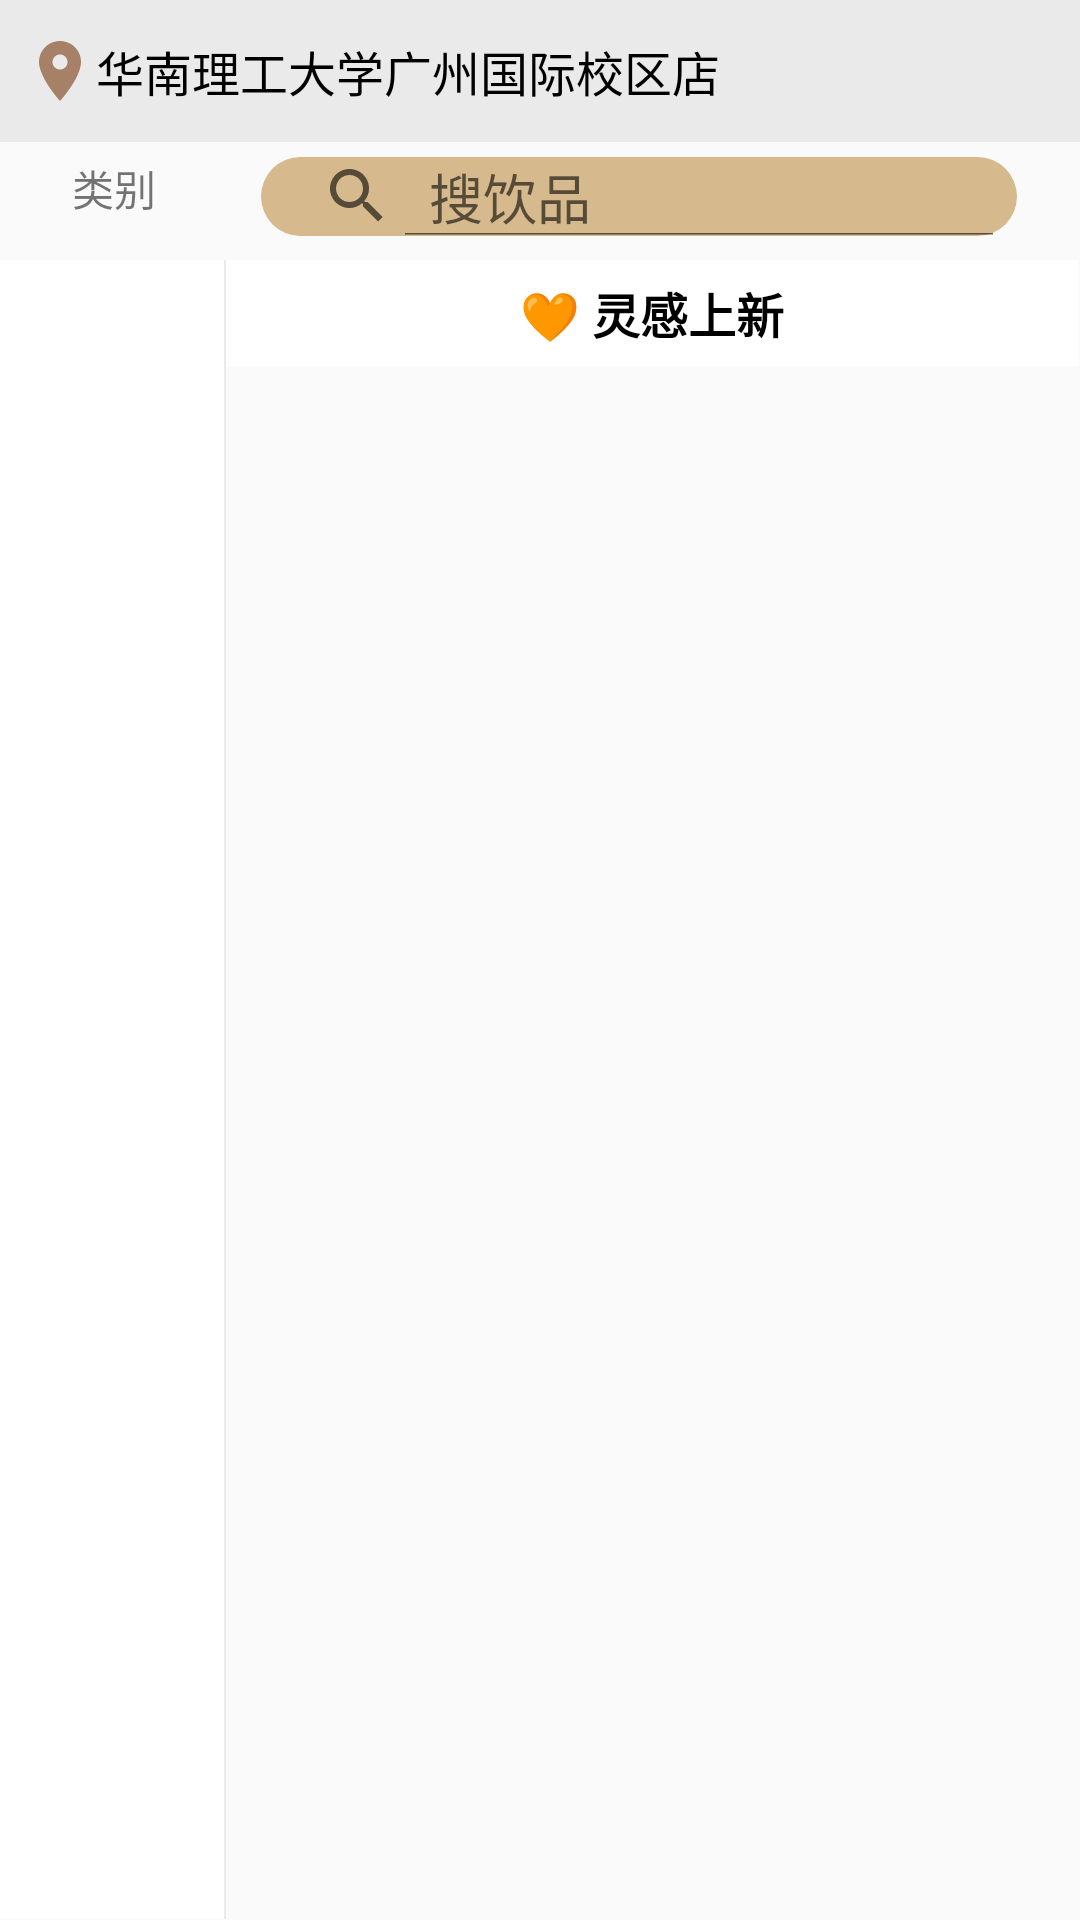

Named icons in this screenshot (1080*1920) and their bounding boxes, region(x1, y1, x2, y2):
location on brown: region(39, 41, 81, 101)
